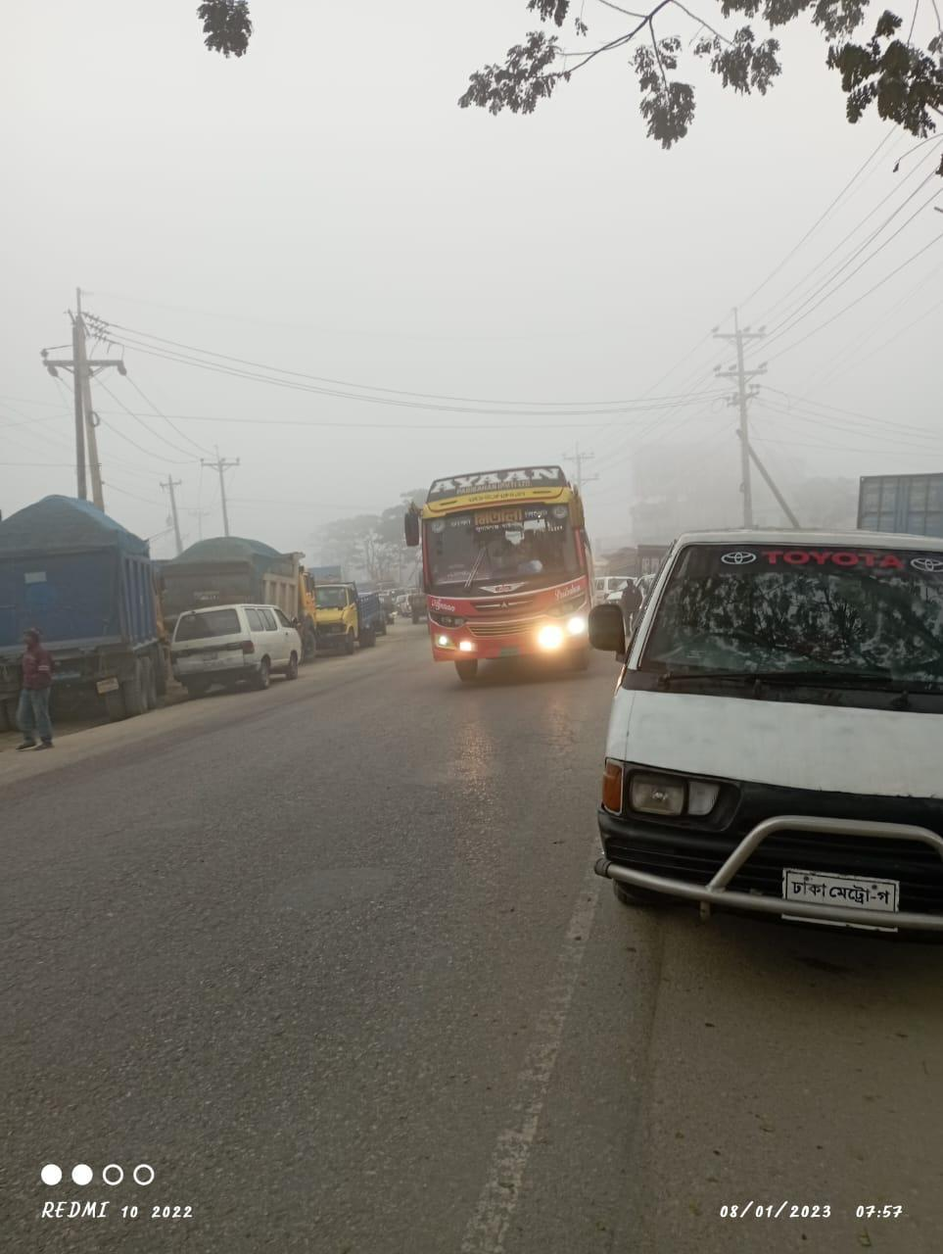Bus: (398, 462, 593, 686)
Car: (593, 526, 943, 957), (168, 593, 314, 695)
Truck: (6, 487, 173, 728)
